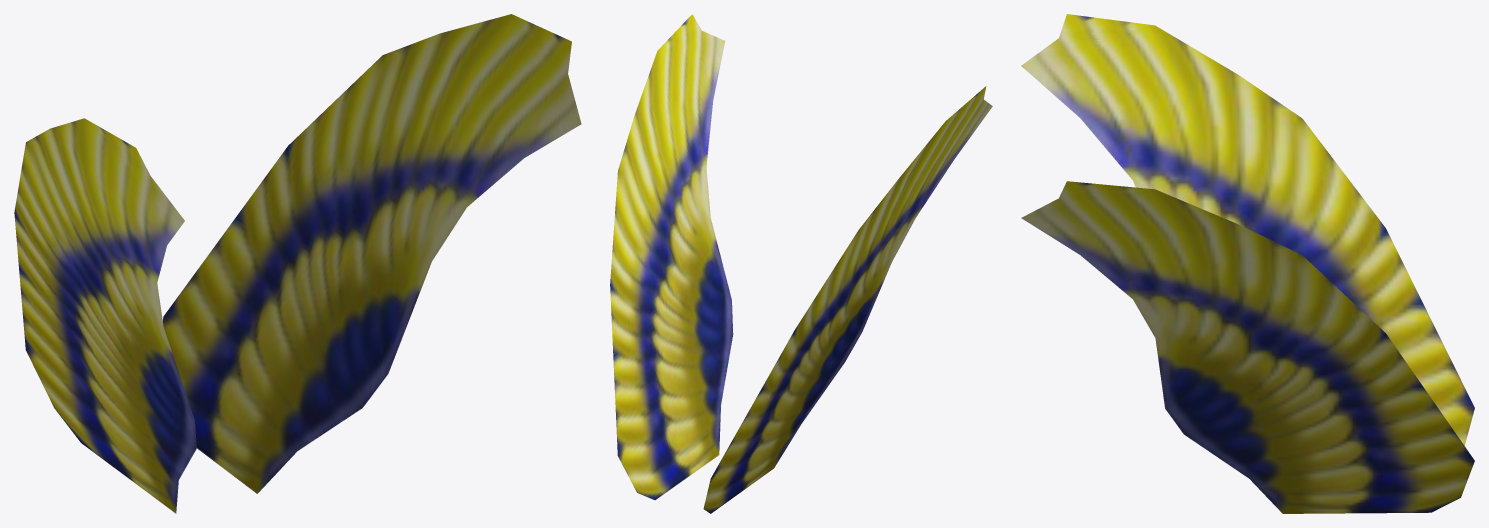
File: tt_m_chr_avt_acc_pac_birdWings.glb
3 views of the same model, side by side, from view 1: azimuth 30°, elevation 25°; view 2: azimuth 150°, elevation 25°; view 3: azimuth 270°, elevation 25° (orthographic). The views are drawn at different scales.
Visible parts, largest first — view 1: tt_m_chr_avt_acc_pac_birdWings; view 2: tt_m_chr_avt_acc_pac_birdWings; view 3: tt_m_chr_avt_acc_pac_birdWings.
Boxes of the visible parts, x1,y1,x2,y2 form: tt_m_chr_avt_acc_pac_birdWings: (14, 14, 581, 513); tt_m_chr_avt_acc_pac_birdWings: (610, 14, 992, 513); tt_m_chr_avt_acc_pac_birdWings: (1021, 14, 1474, 513).
Bounding box in the file's own units: 3.93 × 4.39 × 4.51.
1 material, 1 textured.
